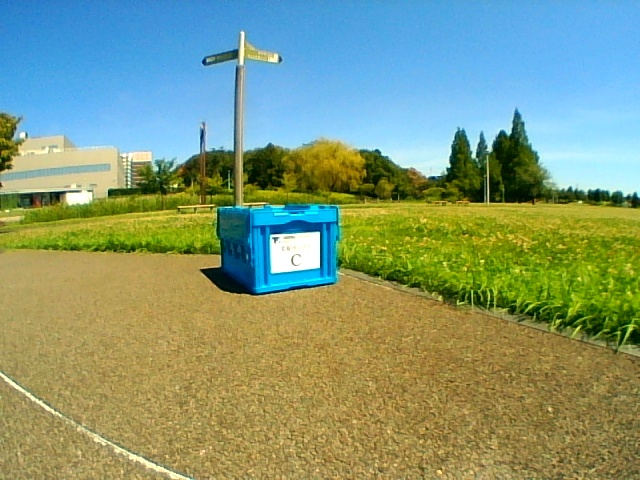blue_box: (218, 205, 337, 296)
tag_c: (275, 236, 316, 270)
